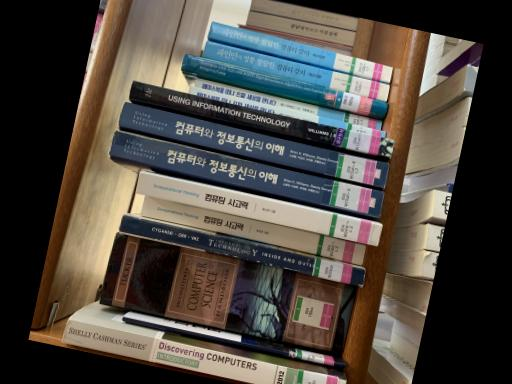book-spine: (100, 231, 356, 354), (109, 128, 384, 216), (119, 101, 389, 187), (129, 80, 394, 158), (62, 319, 346, 384), (136, 171, 382, 244), (119, 215, 365, 286), (141, 195, 366, 263), (181, 53, 389, 115), (123, 316, 347, 369), (202, 41, 390, 101), (208, 22, 393, 82), (190, 86, 386, 137), (195, 77, 382, 130)
